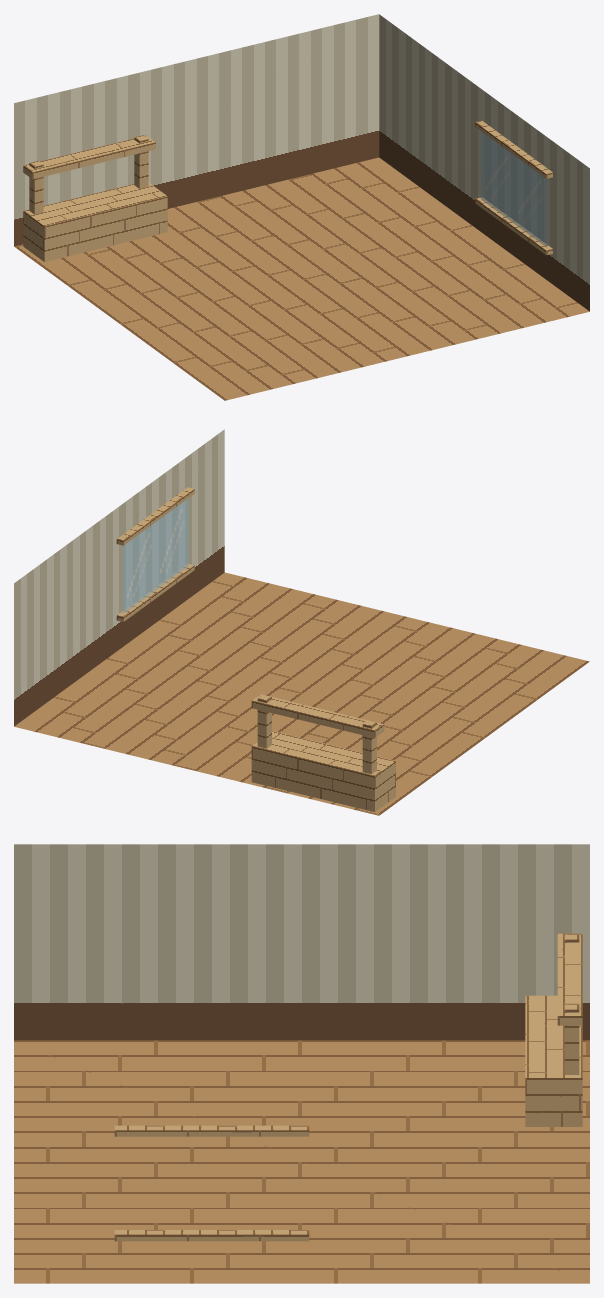
Rendered from workshop_room.gltf.
3 renders of one model, top to bottom at view 1: azimuth 30°, elevation 25°; view 2: azimuth 150°, elevation 25°; view 3: azimuth 270°, elevation 25°, orthographic. The views are drawn at different scales.
Parts seen in each view (by area): view 1: workshop_room; view 2: workshop_room; view 3: workshop_room.
Part boxes in pixels (left/top/right/bottom): workshop_room: left=14, top=14, right=589, bottom=400; workshop_room: left=14, top=429, right=589, bottom=815; workshop_room: left=14, top=844, right=589, bottom=1283.
Size of the model in its own units: 320 by 120 by 320.
4 materials, 4 textured.
